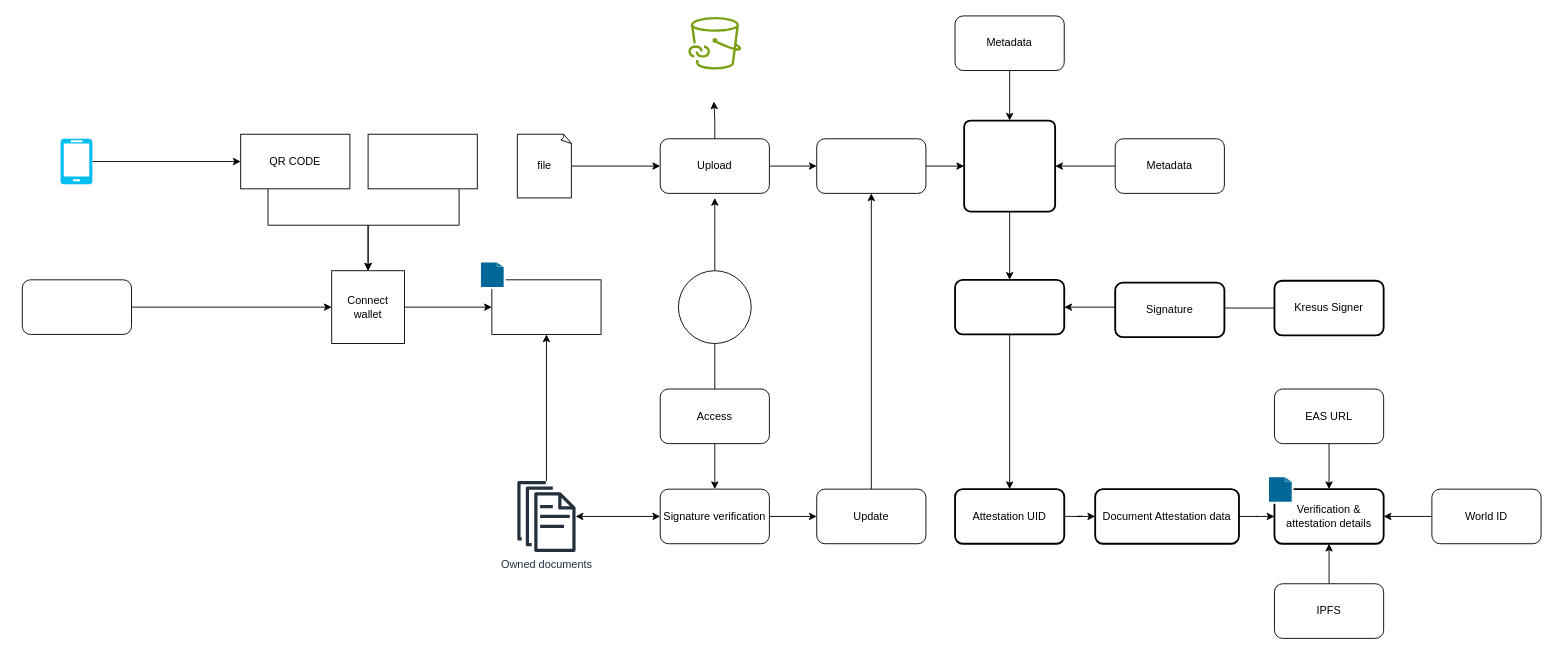
The diagram is 1557 pixels wide and 654 high, and some of its shapes have lost their labels. Here are the shapes that lost their labels. From the top down, the centre of each, then its label:
At point (714, 42): "S3".
At point (76, 161): "Scan through kresus App".
At point (422, 161): "Injected Web kresus provider".
At point (871, 165): "document Hash".
At point (1009, 165): "Attestation Schema object".
At point (76, 306): "onboard".
At point (546, 306): "Dashboard".
At point (714, 307): "Attestation Life cycle".
At point (1009, 306): "EAS SDK ATTESTATION".
